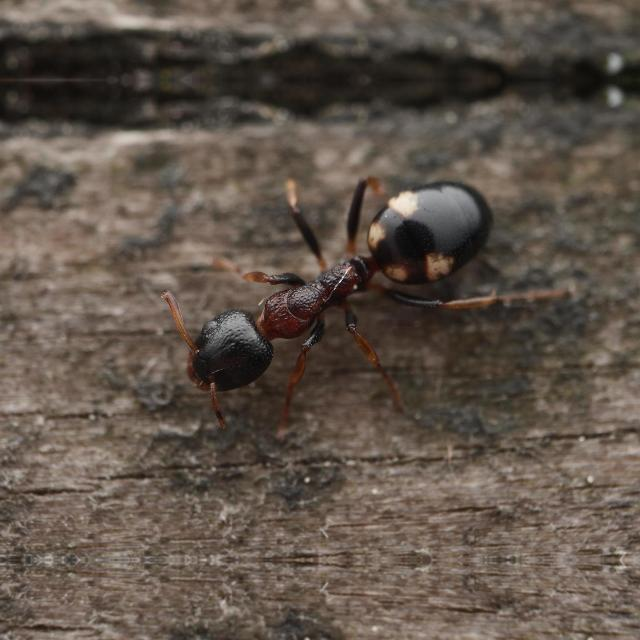Dolichoderus: (129, 152, 551, 414)
